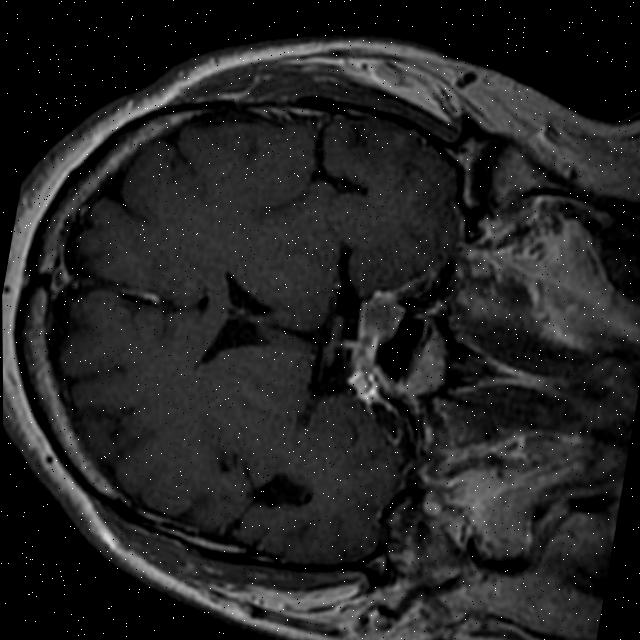Pituitary: (354, 285, 408, 346)
